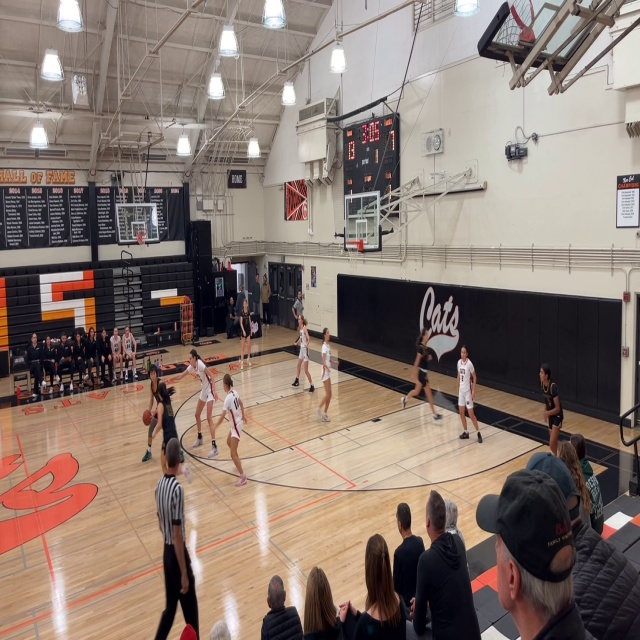Basketball: (142, 410, 152, 425)
